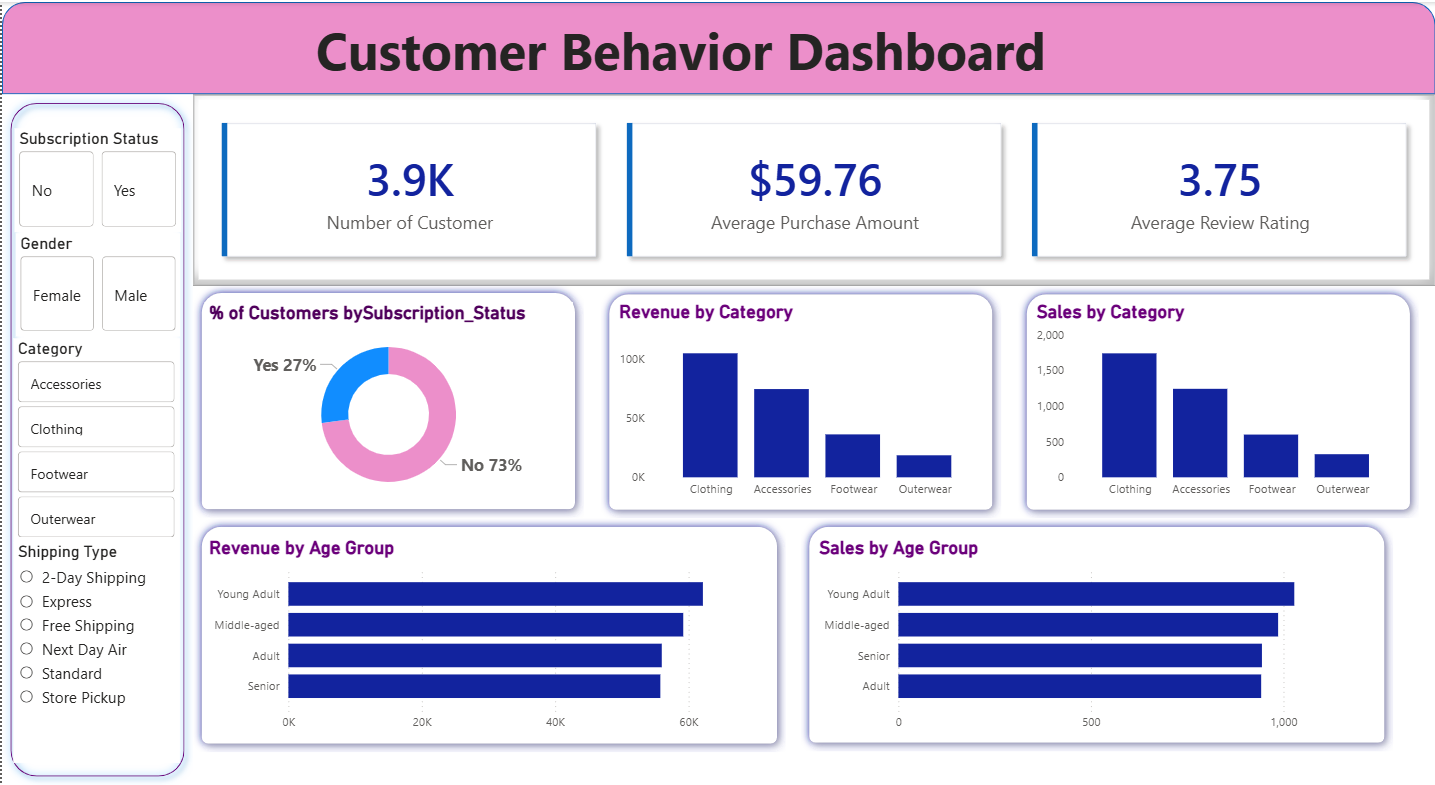

The page's visual inventory and layout, read from the dashboard file:
{"tool":"powerbi","page":{"name":"Page 1","canvas":[1500,820],"ordinal":0},"visuals":[{"type":"cardVisual","fields":{"Data":["public customer.Number of Customer","public customer.Average Purchase Amount","public customer.Average Review Rating"]},"box":[200,96.7,1300,200],"z":0},{"type":"shape","box":[0,0,1500.3,96.6],"z":1000},{"type":"textbox","box":[70.8,9.7,1279.8,86.9],"z":2000},{"type":"shape","box":[200,295.7,408.6,244.3],"z":3000},{"type":"donutChart","title":"% of Customers bySubscription_Status","fields":{"Category":["public customer.subscription_status"],"Y":["CountNonNull(public customer.customer_id)"]},"box":[211.4,314.3,385.7,214.3],"z":4000},{"type":"shape","box":[626.7,296.7,418.9,243.3],"z":5000},{"type":"shape","box":[1063.3,296.7,418.9,243.3],"z":6000},{"type":"clusteredColumnChart","title":"Revenue by Category","fields":{"Y":["Sum(public customer.purchase_amount)"],"Category":["public customer.category"]},"box":[641,313,390,215],"z":7000},{"type":"clusteredColumnChart","title":"Sales by Category","fields":{"Y":["CountNonNull(public customer.customer_id)"],"Category":["public customer.category"]},"box":[1077.5,312.5,390,215],"z":8000},{"type":"shape","box":[0,97.1,200,722.9],"z":9000},{"type":"advancedSlicerVisual","title":"Gender","fields":{"Values":["public customer.gender"]},"box":[14.4,242.2,172.2,107.8],"z":10000},{"type":"advancedSlicerVisual","title":"Subscription Status","fields":{"Values":["public customer.subscription_status"]},"box":[13.3,132.2,174.4,108.9],"z":11000},{"type":"advancedSlicerVisual","title":"Category","fields":{"Values":["public customer.category"]},"box":[12.2,352.2,174.4,213.3],"z":12000},{"type":"listSlicer","title":"Shipping Type","fields":{"Values":["public customer.shipping_type"]},"box":[12.2,565.6,174.4,231.1],"z":13000},{"type":"shape","box":[200,540,620,245],"z":15000},{"type":"clusteredBarChart","title":"Revenue by Age Group","fields":{"Y":["Sum(public customer.purchase_amount)"],"Category":["public customer.age_group"]},"box":[211.7,560,591.7,211.7],"z":15500},{"type":"shape","box":[836,540,620,244],"z":16000},{"type":"clusteredBarChart","title":"Sales by Age Group","fields":{"Y":["CountNonNull(public customer.customer_id)"],"Category":["public customer.age_group"]},"box":[850,560,591.7,211.7],"z":17000}]}

Visuals, with their boxes in screenshot pixels (x1, y1, x2, y2), scaled from the page's 1500x820 canvas onto the 1435x785 screenshot:
cardVisual - public customer.Number of Customer x public customer.Average Purchase Amount: Rect(191, 93, 1434, 284)
shape: Rect(0, 0, 1434, 92)
textbox: Rect(68, 9, 1292, 92)
shape: Rect(191, 283, 582, 517)
"% of Customers bySubscription_Status" donutChart: Rect(202, 301, 571, 506)
shape: Rect(600, 284, 1000, 517)
shape: Rect(1017, 284, 1418, 517)
"Revenue by Category" clusteredColumnChart: Rect(613, 300, 986, 505)
"Sales by Category" clusteredColumnChart: Rect(1031, 299, 1404, 505)
shape: Rect(0, 93, 191, 784)
"Gender" advancedSlicerVisual: Rect(14, 232, 179, 335)
"Subscription Status" advancedSlicerVisual: Rect(13, 127, 180, 231)
"Category" advancedSlicerVisual: Rect(12, 337, 179, 541)
"Shipping Type" listSlicer: Rect(12, 541, 179, 763)
shape: Rect(191, 517, 784, 751)
"Revenue by Age Group" clusteredBarChart: Rect(203, 536, 769, 739)
shape: Rect(800, 517, 1393, 751)
"Sales by Age Group" clusteredBarChart: Rect(813, 536, 1379, 739)
